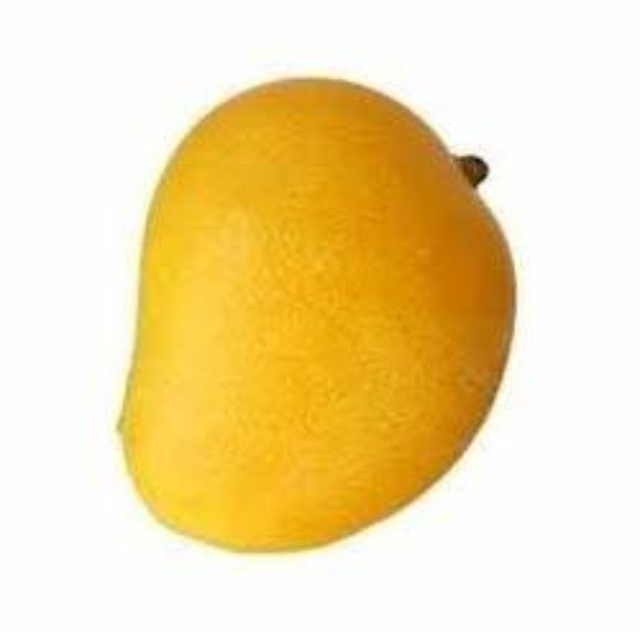mango: (107, 76, 513, 554)
